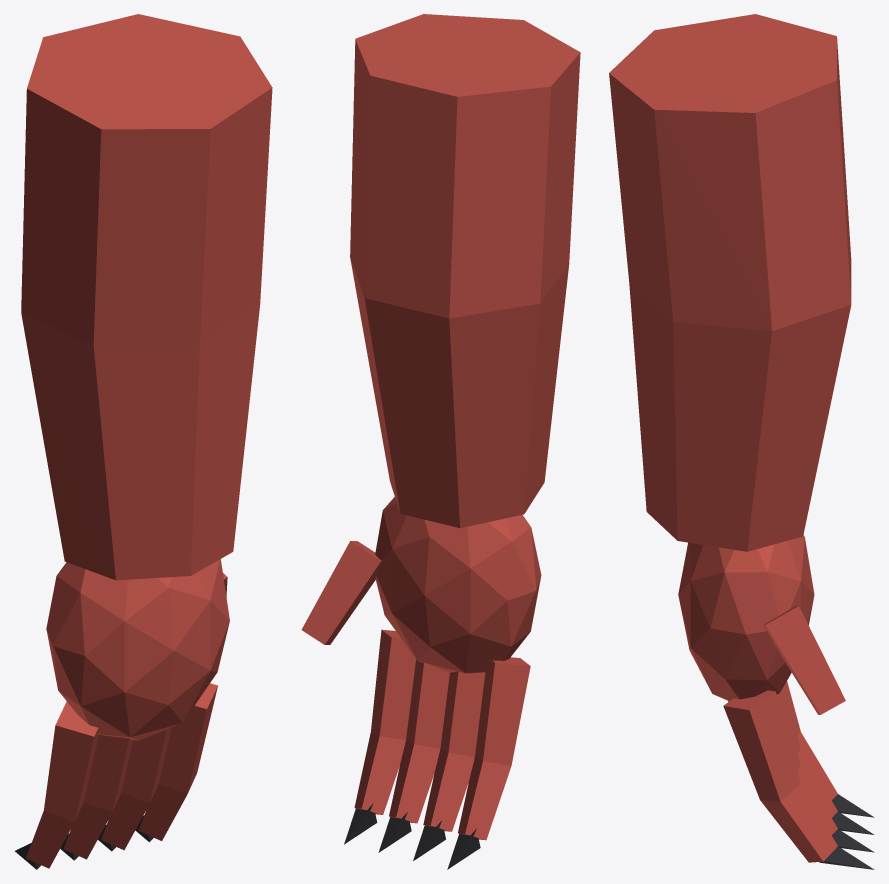
Rendered from SatanForearmOpen.obj.
3 renders of one model, left to right at view 1: azimuth 30°, elevation 25°; view 2: azimuth 150°, elevation 25°; view 3: azimuth 270°, elevation 25°, orthographic. The views are drawn at different scales.
Visible parts, largest first — view 1: SatanForearmOpen; view 2: SatanForearmOpen; view 3: SatanForearmOpen.
Boxes of the visible parts, x1=… form: SatanForearmOpen: x1=15, y1=14, x2=272, y2=869; SatanForearmOpen: x1=301, y1=14, x2=580, y2=869; SatanForearmOpen: x1=609, y1=14, x2=874, y2=869.
Bounding box in the file's own units: 0.1482 × 0.5045 × 0.1548.
Materials: 1 (1 with a texture image).
